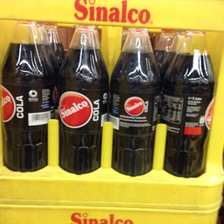soda: (56, 25, 109, 175), (1, 20, 53, 172), (161, 30, 214, 178), (110, 27, 162, 176)
